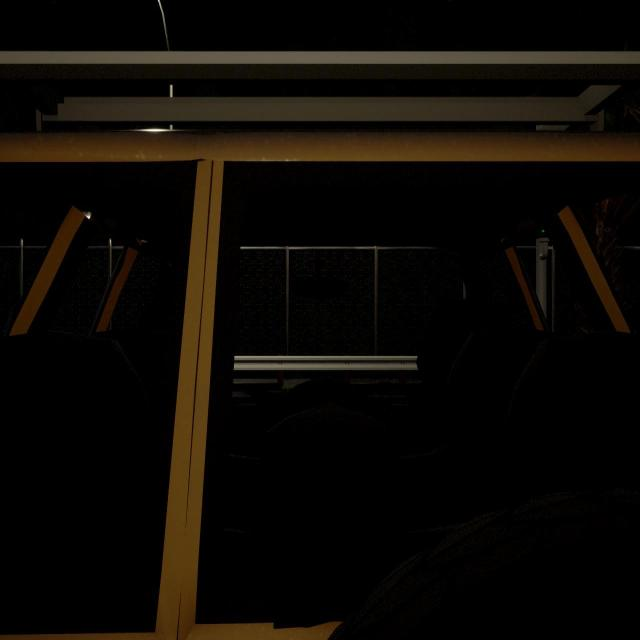Vehicle: (0, 49, 640, 640)
traffic_light: (533, 213, 551, 247)
